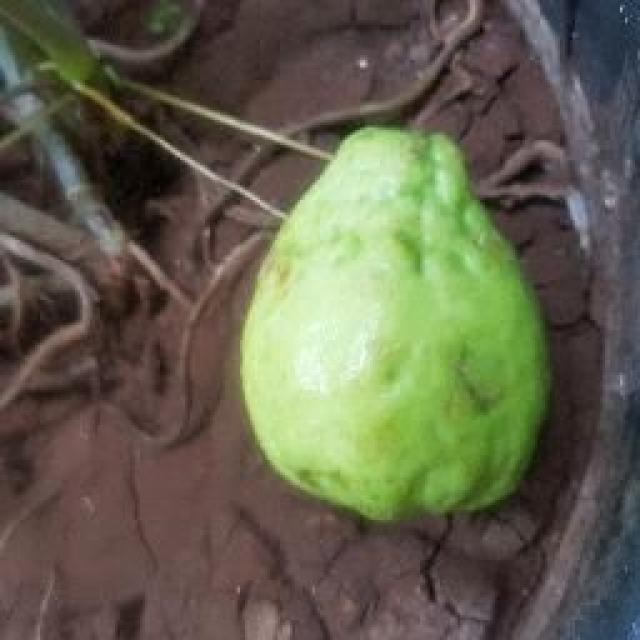Good_Guava: (238, 125, 550, 528)
